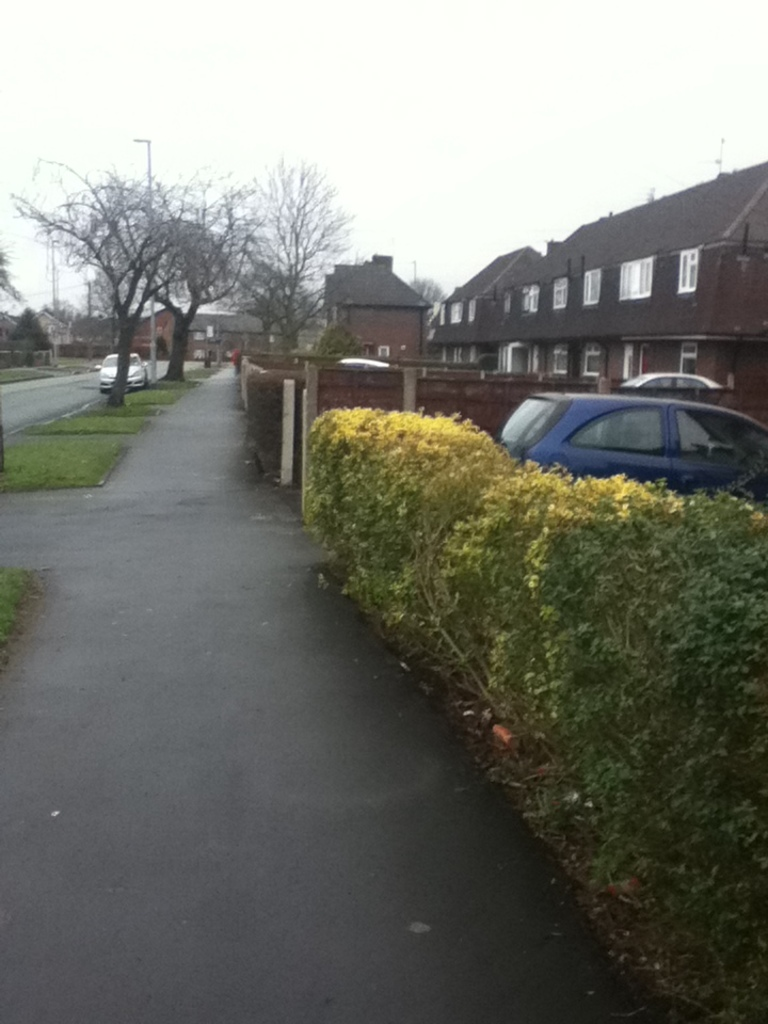Car: (497, 371, 759, 488), (92, 348, 151, 392), (626, 368, 722, 387)
